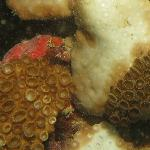dead: (1, 8, 147, 149)
